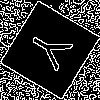Y: (24, 25, 82, 78)
